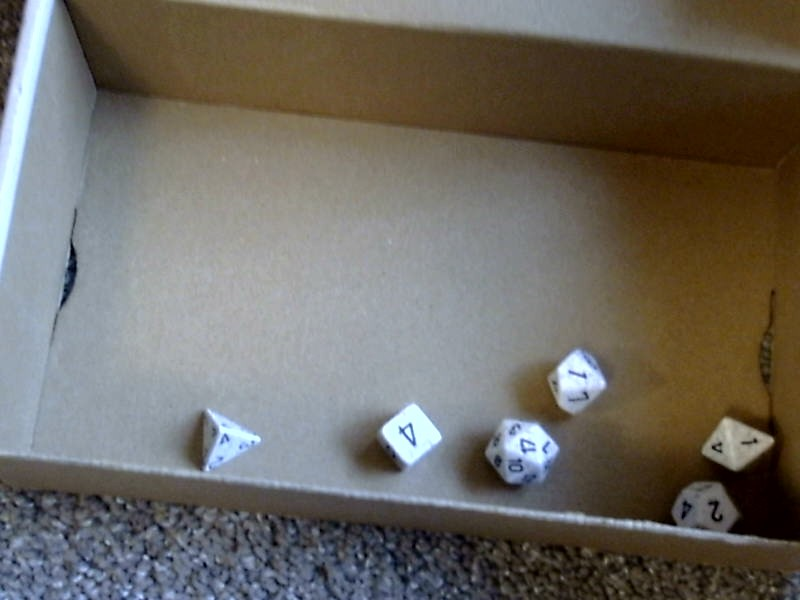d10 1: (541, 345, 616, 420)
d12 2: (667, 478, 741, 545)
d20 17: (479, 417, 559, 490)
d4 4: (191, 407, 264, 478)
d6 4: (365, 395, 443, 473)
d8 1: (697, 411, 782, 477)
